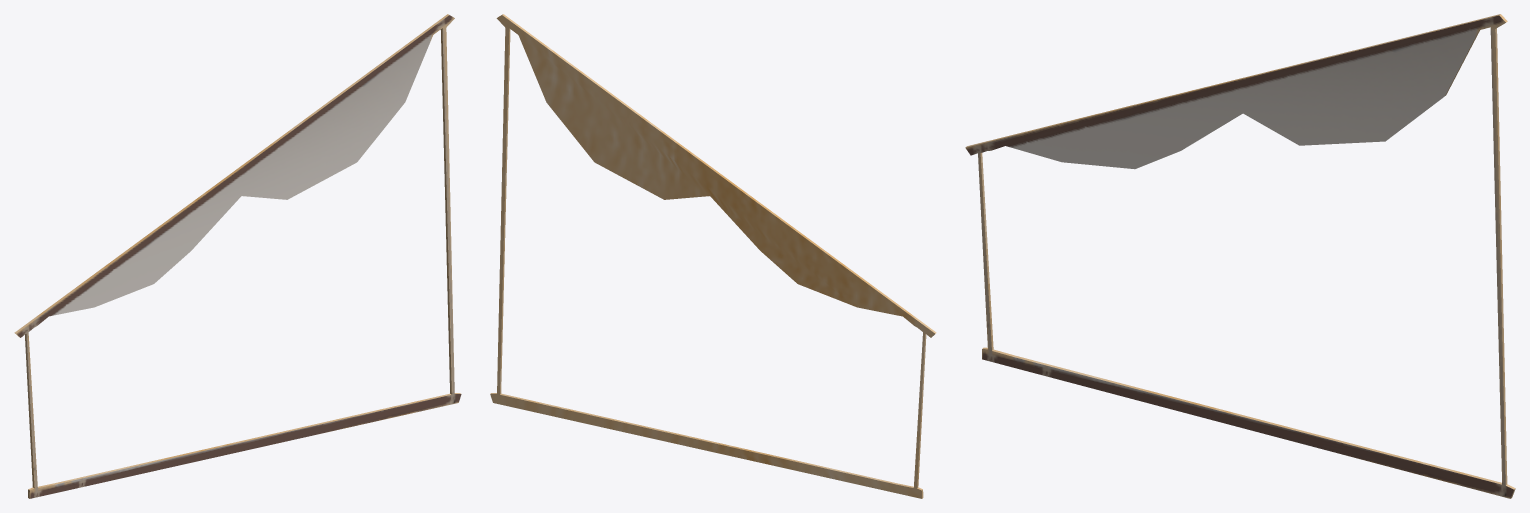
File: Mesh_Sc_Tempete_Voilefermé.fbx
3 renders of one model, left to right at view 1: azimuth 30°, elevation 25°; view 2: azimuth 150°, elevation 25°; view 3: azimuth 330°, elevation 25°, orthographic. The views are drawn at different scales.
Parts seen in each view (by area): view 1: Mesh_Sc_Tempete_Voile.001; view 2: Mesh_Sc_Tempete_Voile.001; view 3: Mesh_Sc_Tempete_Voile.001.
Boxes of the visible parts, x1,y1,x2,y2 form: Mesh_Sc_Tempete_Voile.001: (14,14,461,498); Mesh_Sc_Tempete_Voile.001: (490,14,936,498); Mesh_Sc_Tempete_Voile.001: (965,14,1515,498).
Bounding box in the file's own units: 168 × 141 × 1.
